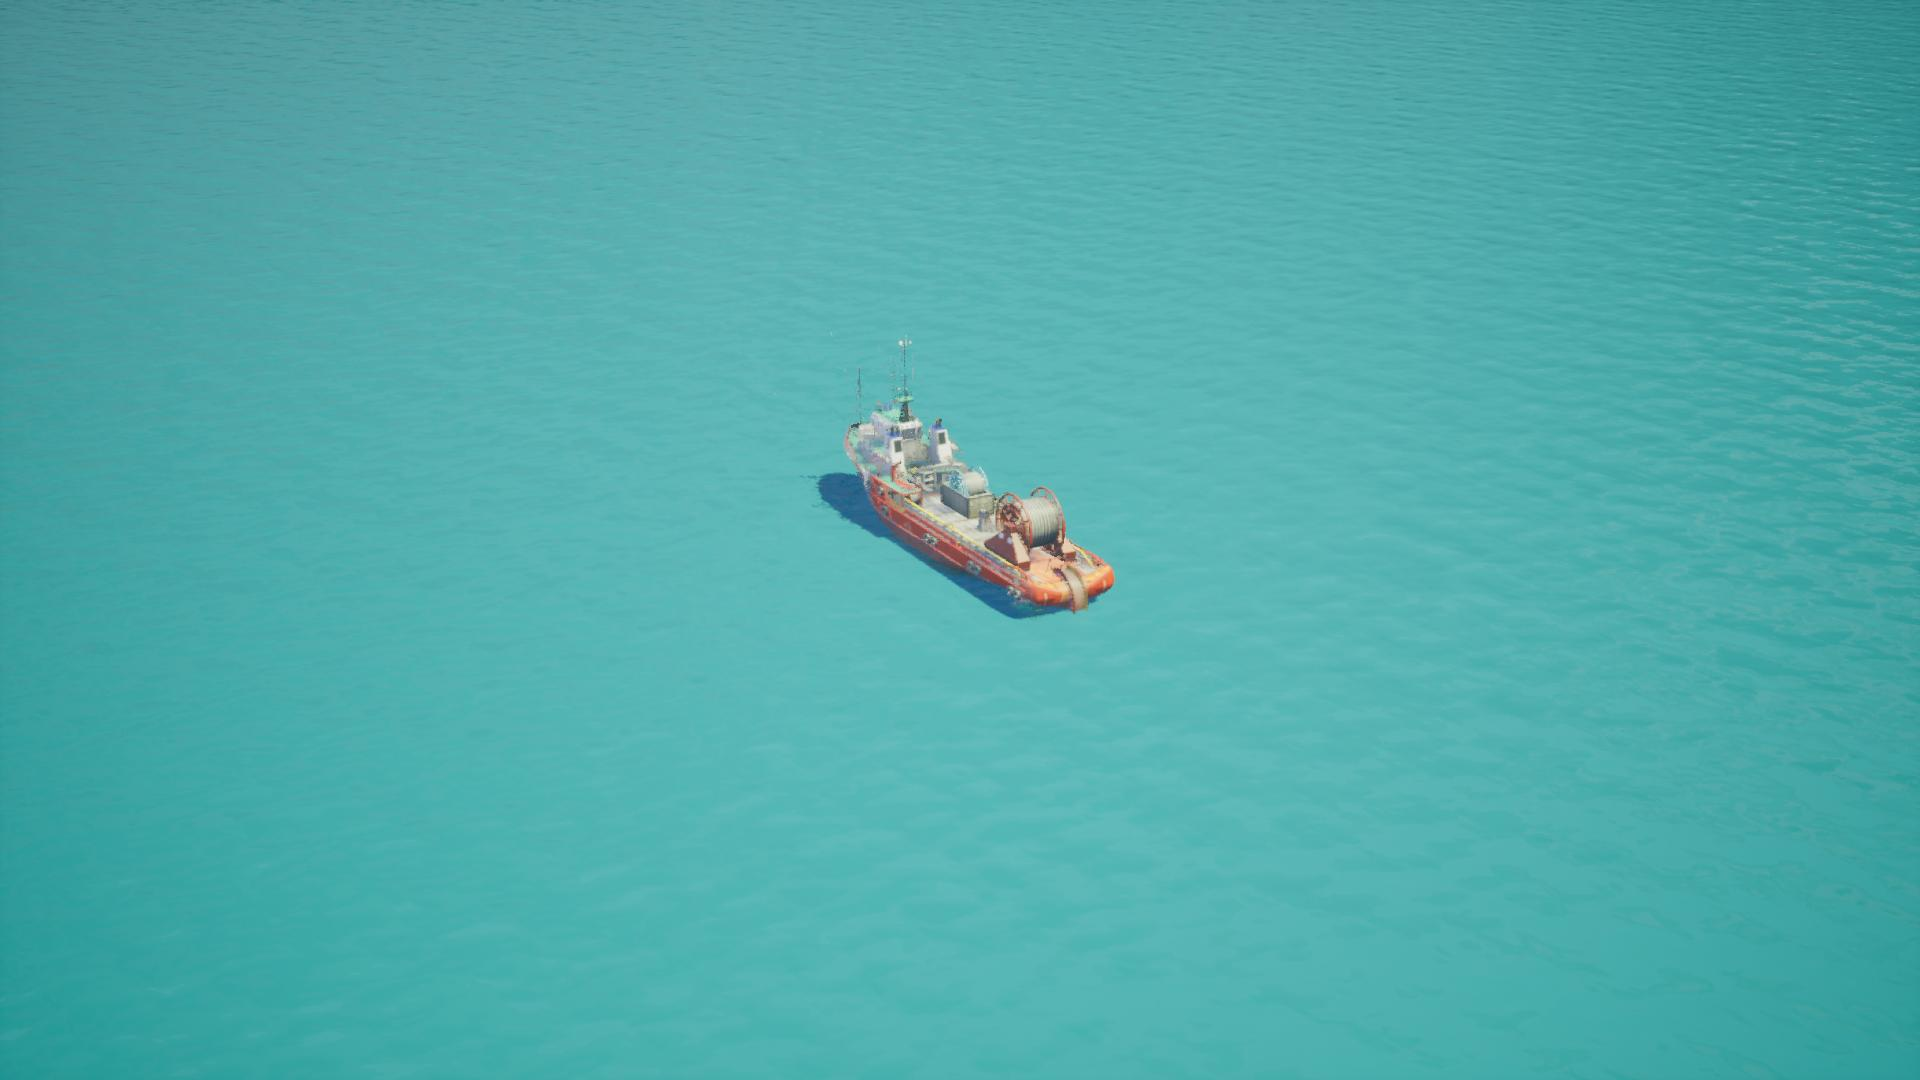Tug Boat: (812, 307, 1133, 638)
